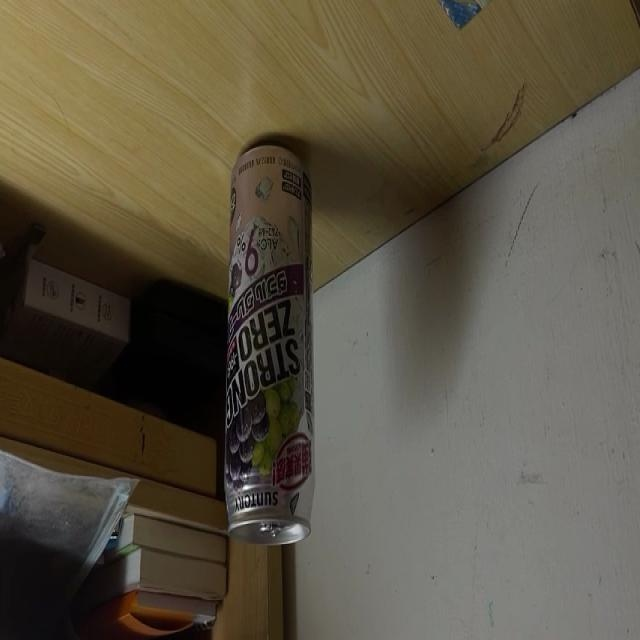Liquor: (226, 144, 314, 546)
